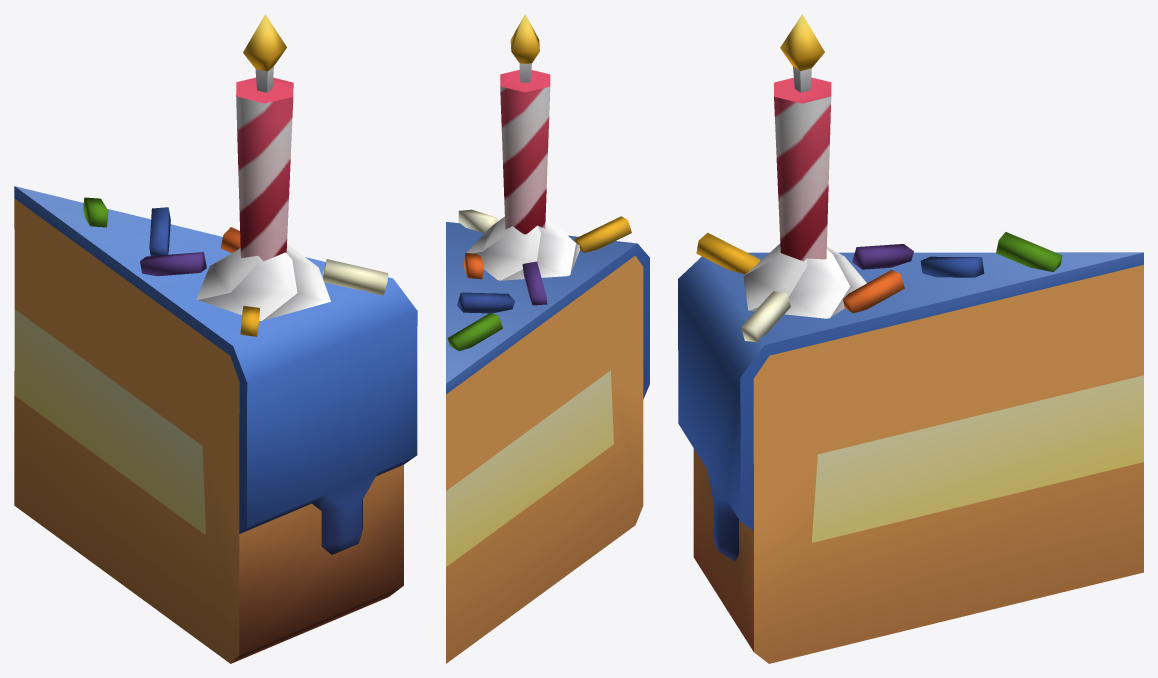
File: m_BirthdayCake03_Slice03.fbx
The picture shows the model from 3 angles, left to right: view 1: azimuth 30°, elevation 25°; view 2: azimuth 150°, elevation 25°; view 3: azimuth 270°, elevation 25°; orthographic projection. The views are drawn at different scales.
Visible parts, largest first — view 1: m_BirthdayCake03_Slice03; view 2: m_BirthdayCake03_Slice03; view 3: m_BirthdayCake03_Slice03.
Part boxes in pixels (x1,y1,x2,y2): m_BirthdayCake03_Slice03: (14,14,417,663); m_BirthdayCake03_Slice03: (446,14,649,663); m_BirthdayCake03_Slice03: (678,14,1143,663).
Size of the model in its own units: 7.24 by 20.5 by 14.48.
